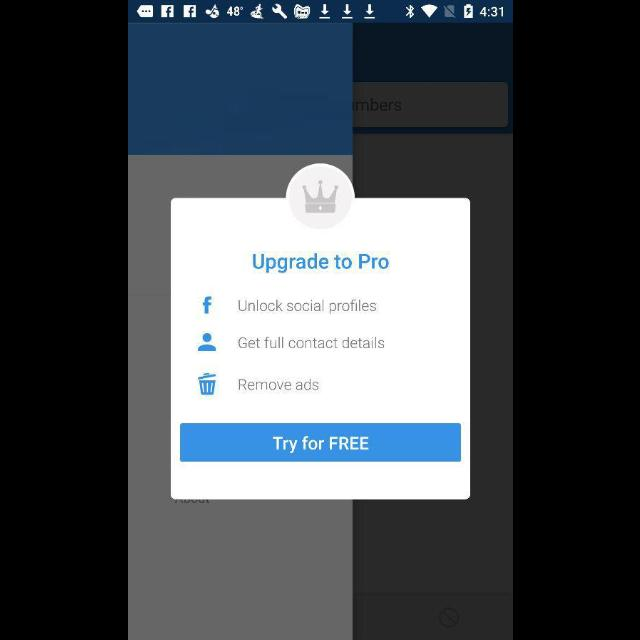icon: (198, 332, 216, 352), (202, 296, 212, 314)
image: (286, 163, 354, 230), (198, 372, 216, 396)
panel: (170, 164, 470, 500)
text: (252, 252, 388, 274), (238, 300, 376, 314), (238, 336, 384, 349), (238, 378, 318, 390)
textbutton: (180, 423, 460, 462)
uppertaskbar: (128, 1, 512, 23)
